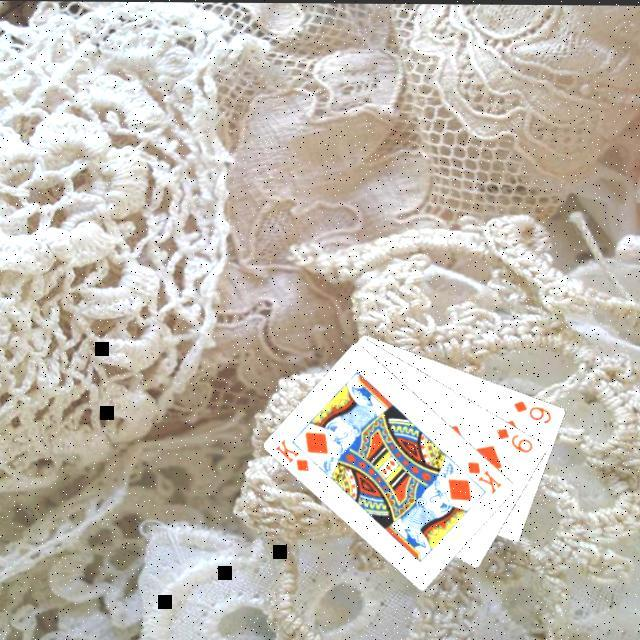6D: (513, 394, 557, 424)
9D: (495, 422, 538, 453)
KD: (466, 454, 508, 494), (274, 433, 314, 473)
